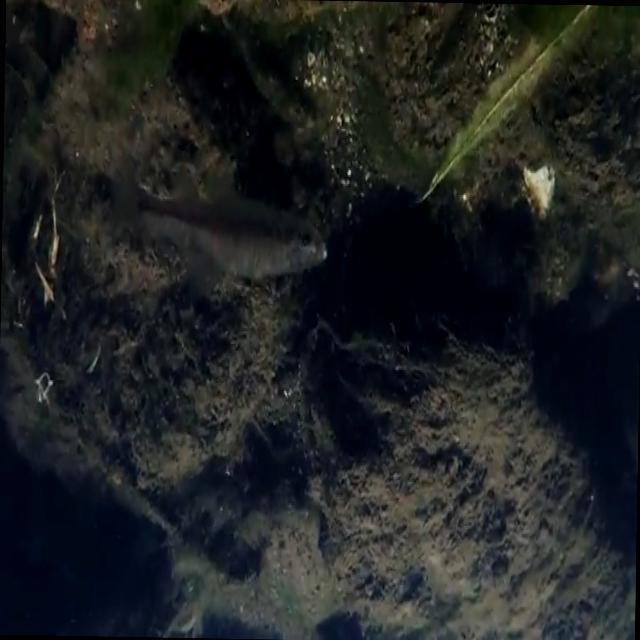Cakil Baligi: (112, 178, 336, 280)
